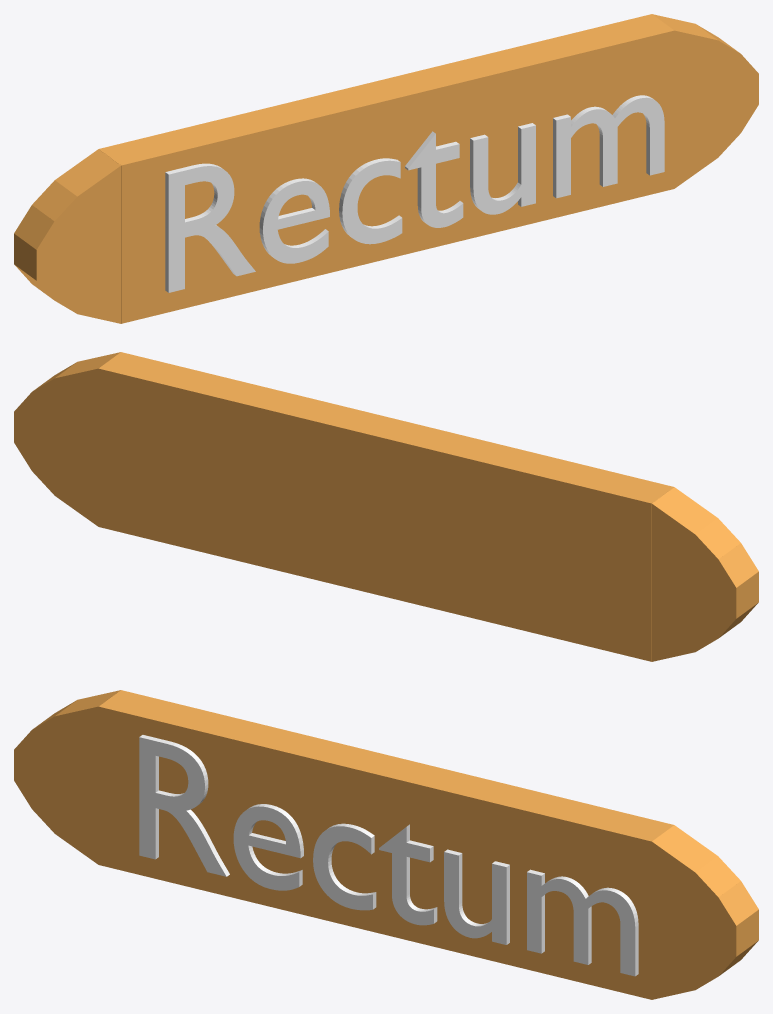
Rendered from TxtRectum.fbx.
3 views of the same model, one above another, from view 1: azimuth 30°, elevation 25°; view 2: azimuth 150°, elevation 25°; view 3: azimuth 330°, elevation 25° (orthographic).
Parts seen in each view (by area): view 1: TagContainer.032, Text.031; view 2: TagContainer.032; view 3: TagContainer.032, Text.031.
Part boxes in pixels (x1,y1,x2,y2): TagContainer.032: [14, 14, 758, 323]; Text.031: [165, 95, 664, 292]; TagContainer.032: [14, 352, 758, 661]; TagContainer.032: [14, 690, 758, 999]; Text.031: [139, 735, 638, 976].
Size of the model in its own units: 197 by 41.3 by 12.28.
